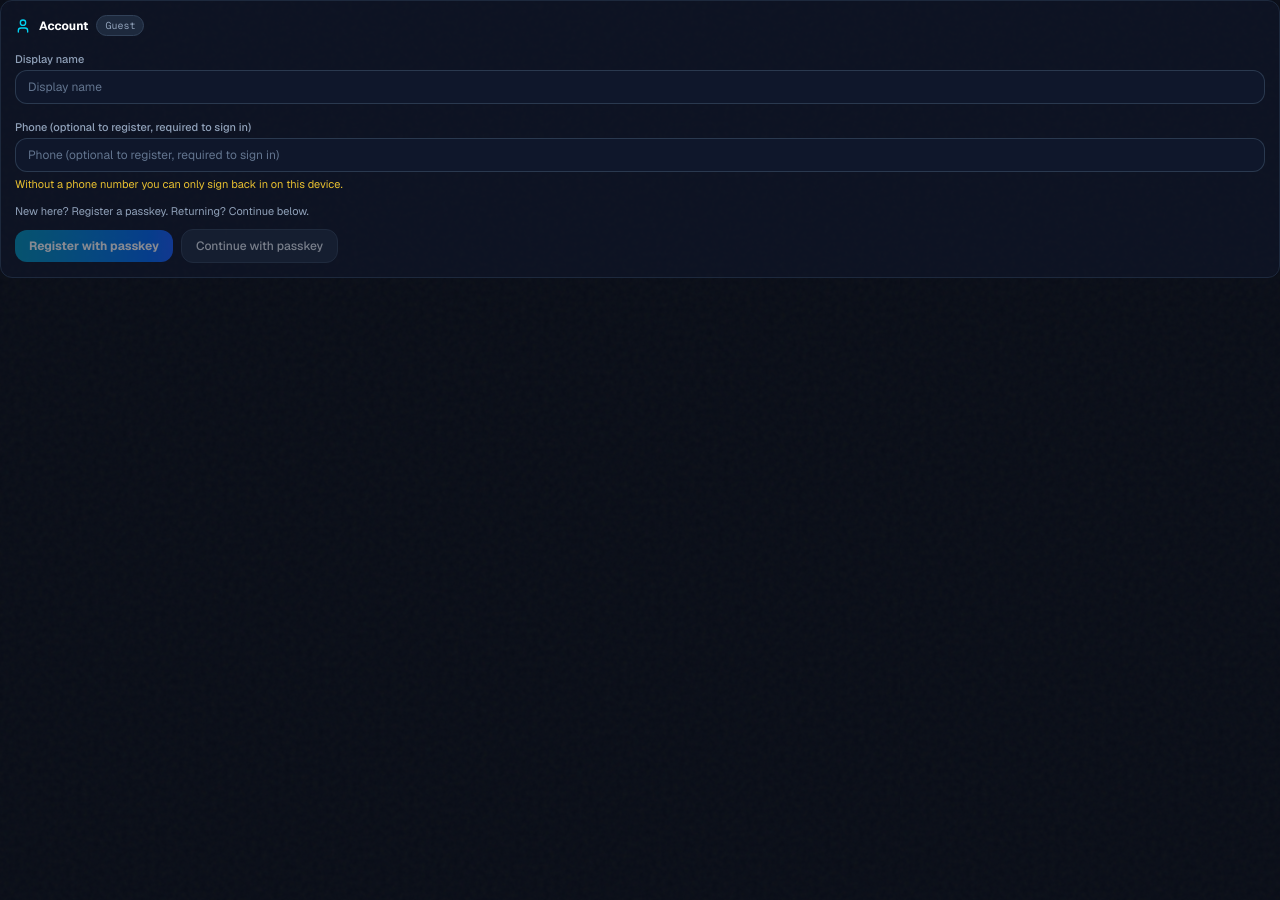
Test: busy visibility › register shows waiting state and login is visibly disabled
The image size is (1280, 900).
Type "Uji" into the field labelled "Display name".
click(640, 87); type("Uji")  # box [15,70,1265,104]
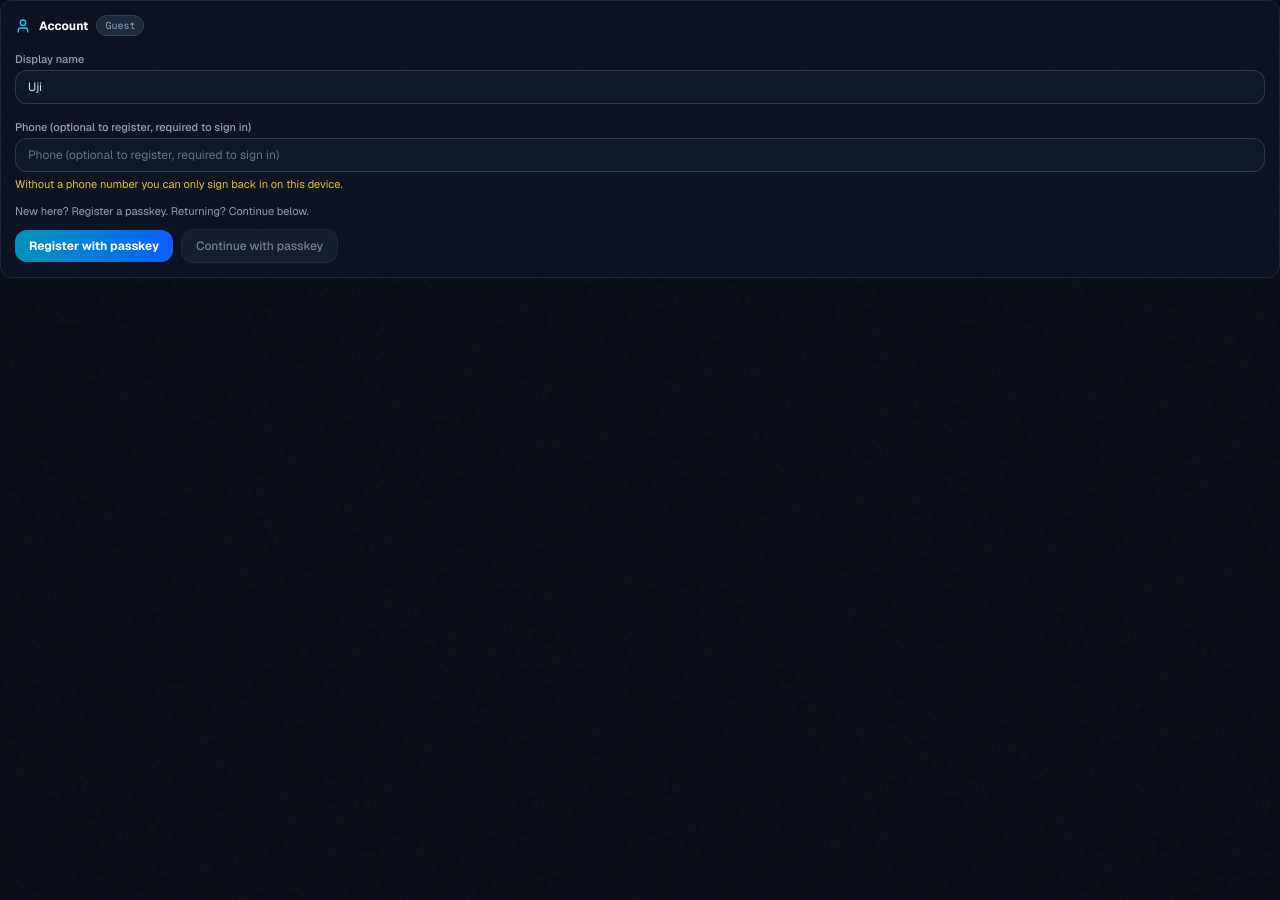
Type "+628100000001" into the field labelled "Phone (optional to register, required to sign in)".
click(640, 155); type("+628100000001")  # box [15,138,1265,172]
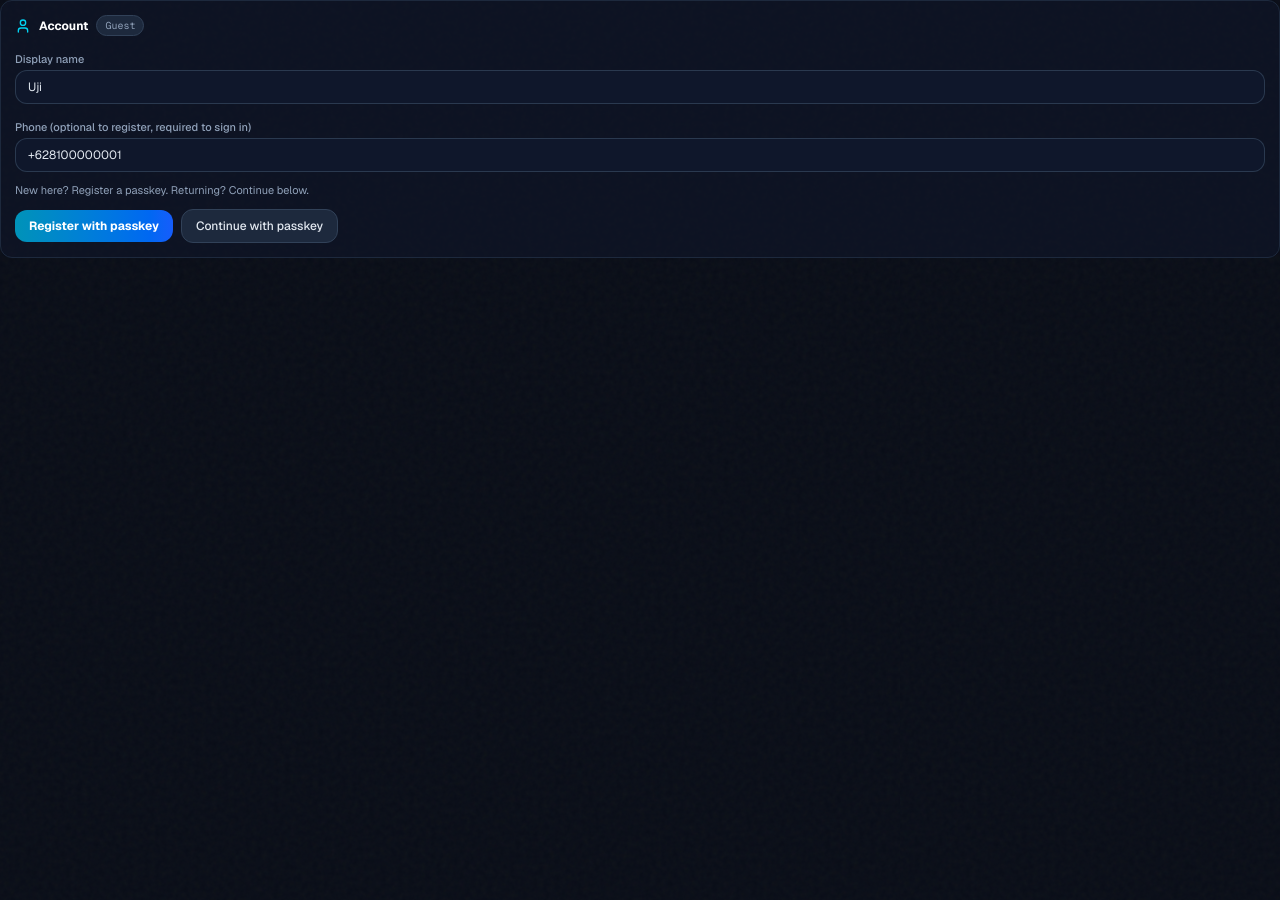
Click the button "Register with passkey".
click(94, 226)  # box [15,210,173,242]
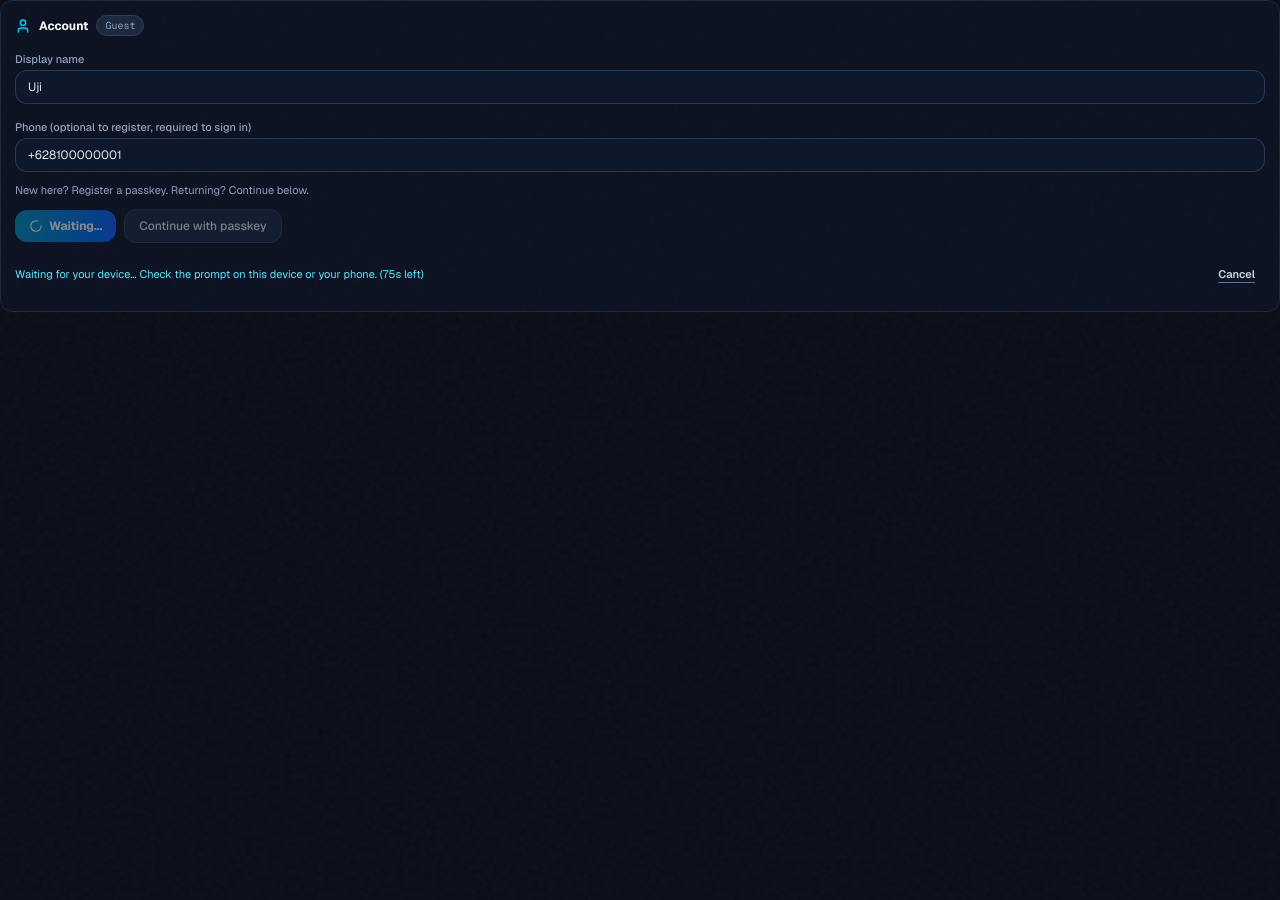
Expected: the text "Waiting…" is shown, [49,218,102,234]
Expected: the icon with class "animate-spin" is shown, [29,218,43,232]
Expected: the button "Continue with passkey" is disabled, [124,208,282,242]
